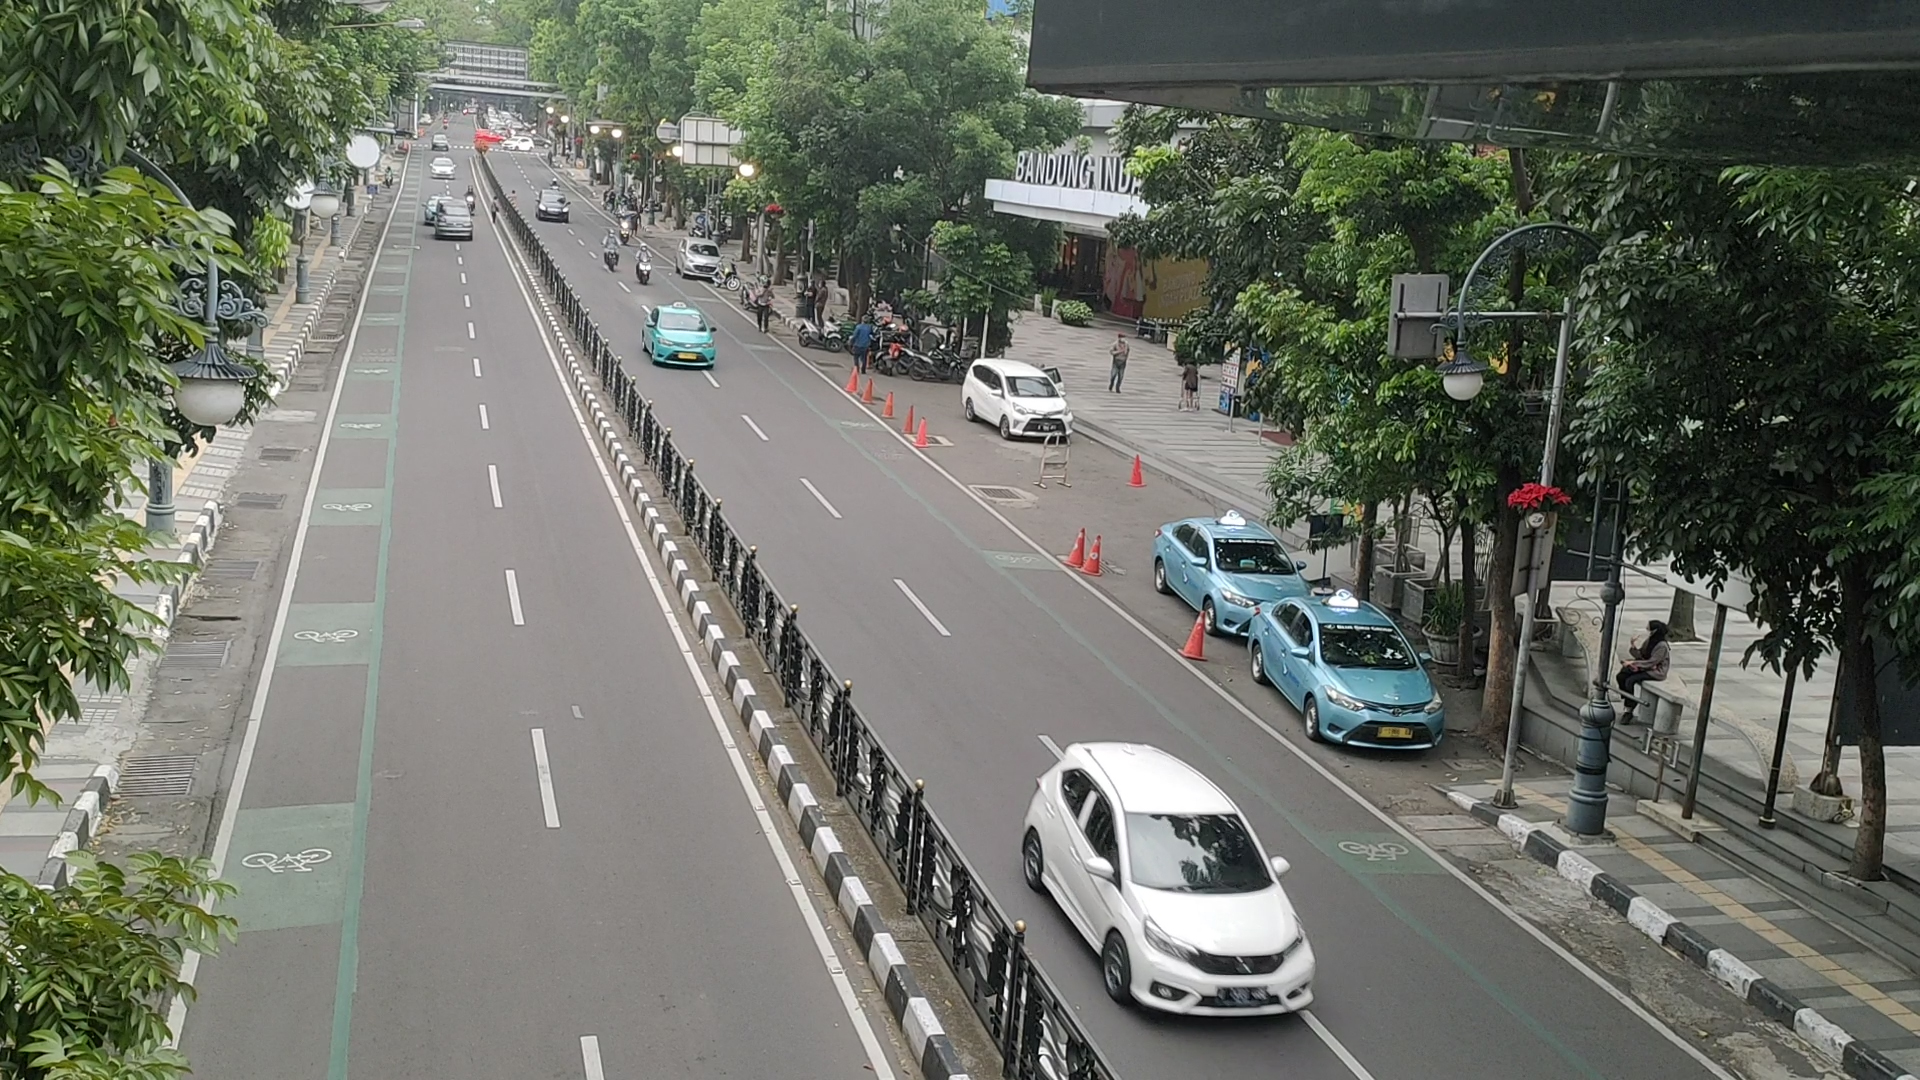mobil: (1093, 800, 1313, 1025), (1298, 618, 1447, 760), (996, 369, 1075, 440), (647, 310, 717, 372)
